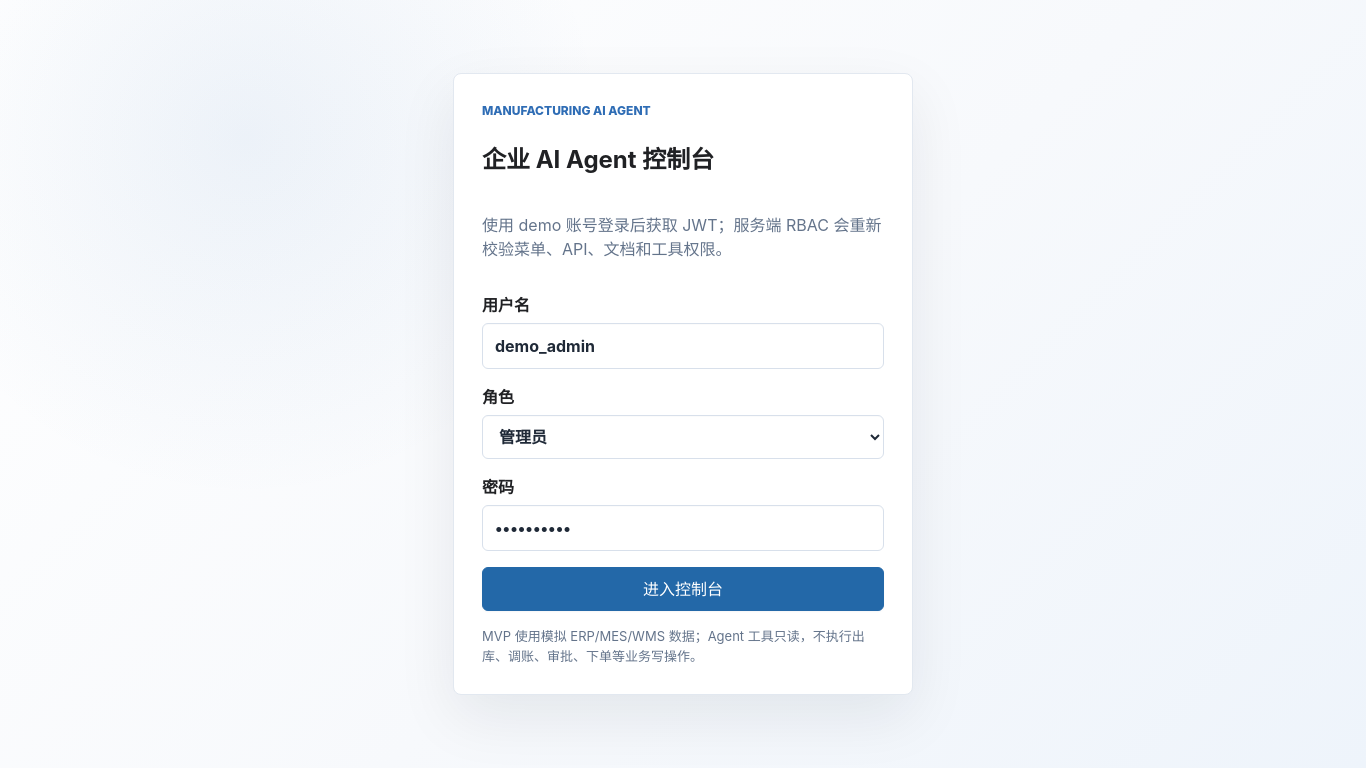
Test: P8 console smoke › renders SOP knowledge search result details
The width and height of the screenshot is (1366, 768).
Replace the text in the field labelled "用户名" with "demo_user" at point(683, 346), box [482,324,884,370]
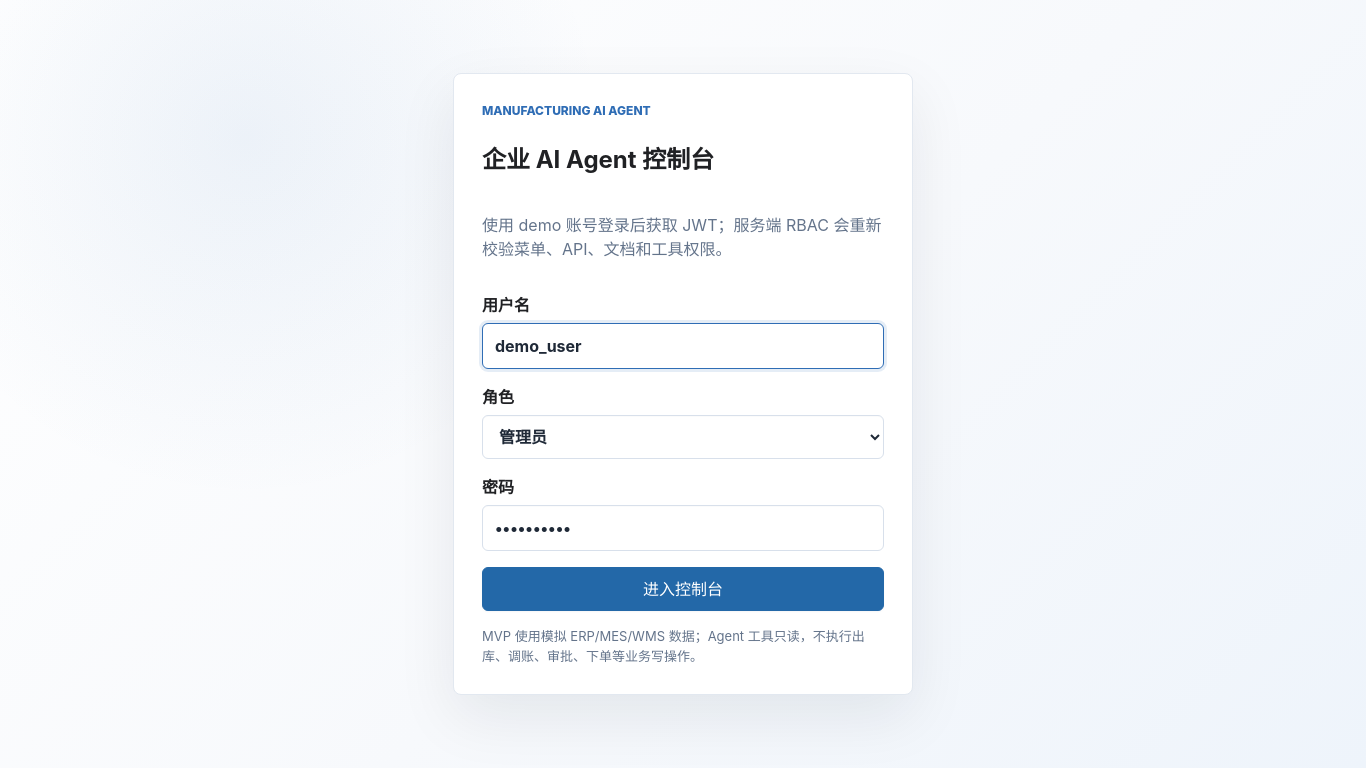
Select "普通用户" in the dropdown labelled "角色" at point(683, 438), box [482,416,884,460]
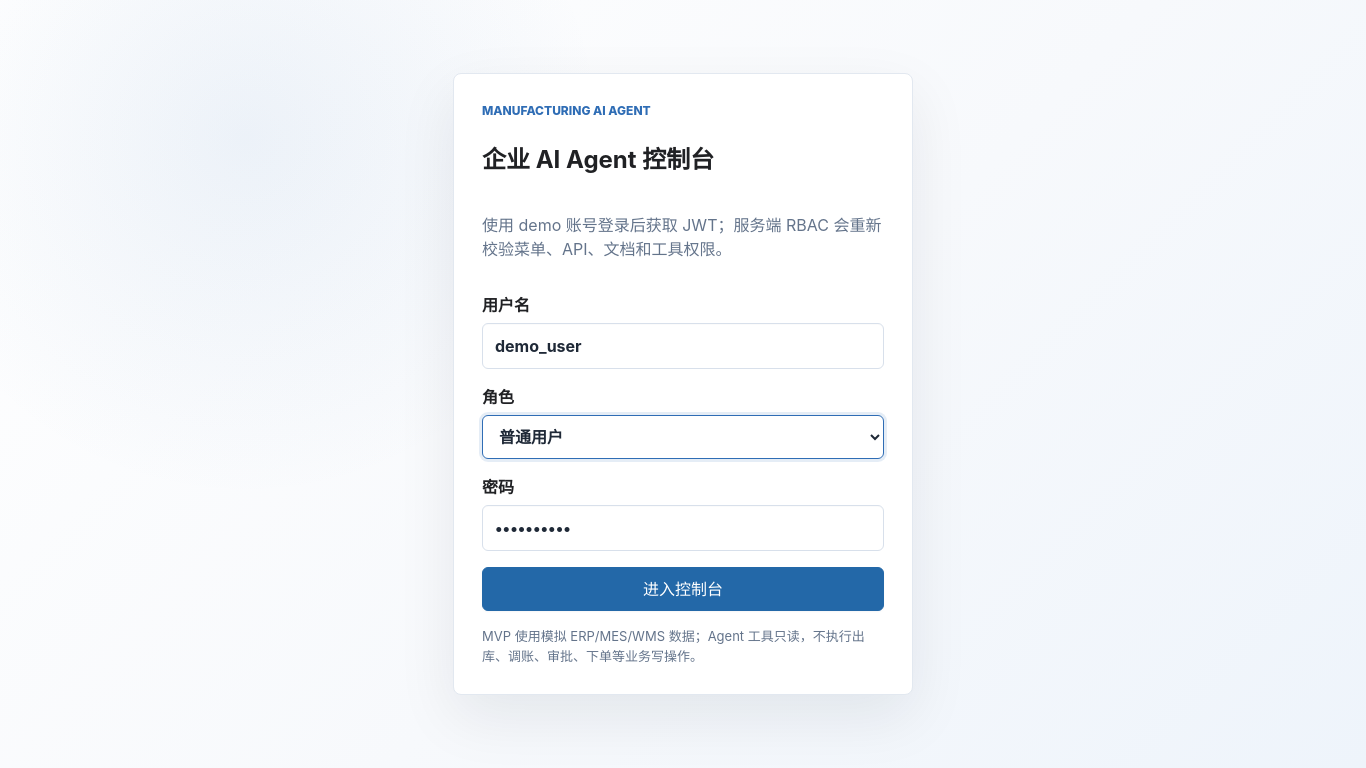
Click the button "进入控制台" at point(683, 590), box [482,568,884,612]
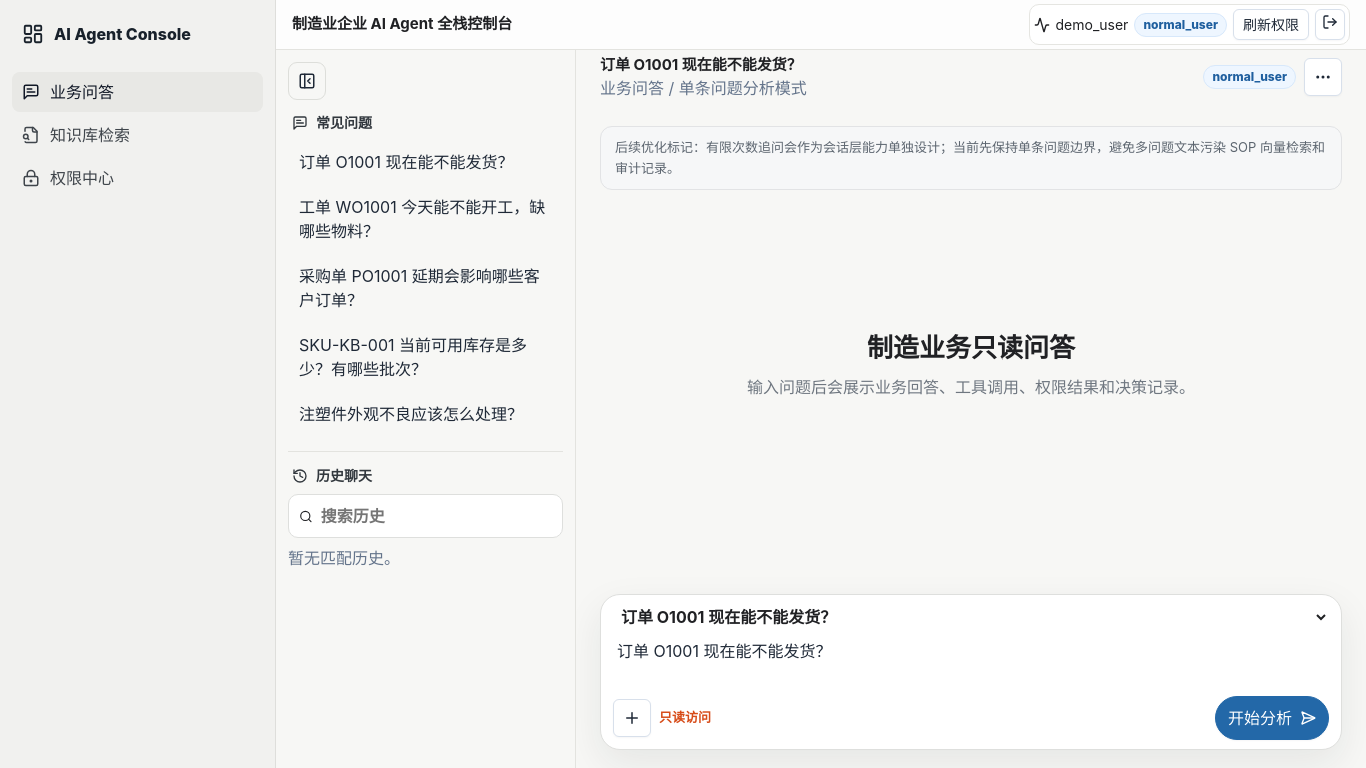
Click the button "知识库检索" at point(138, 135), box [12,115,263,155]
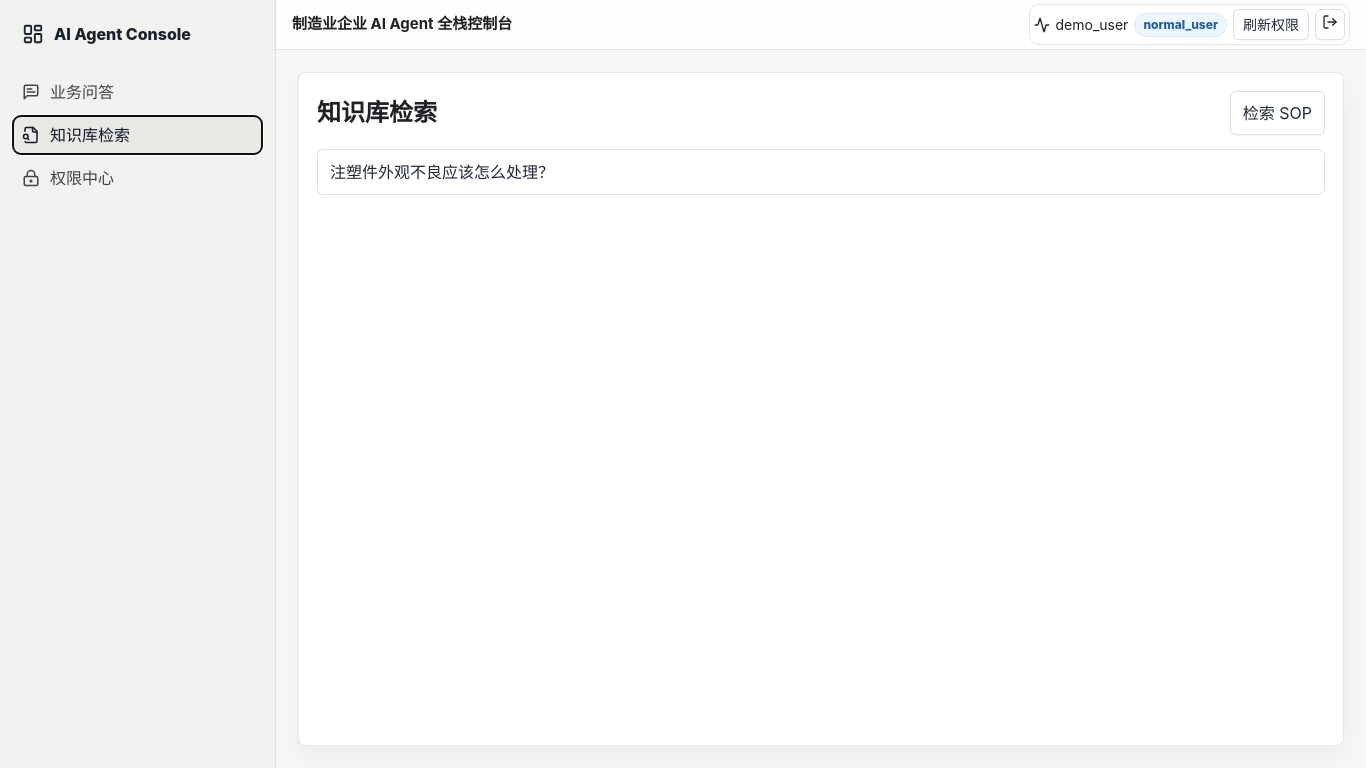
Click the button "检索 SOP" at point(1277, 113), box [1230,91,1325,135]
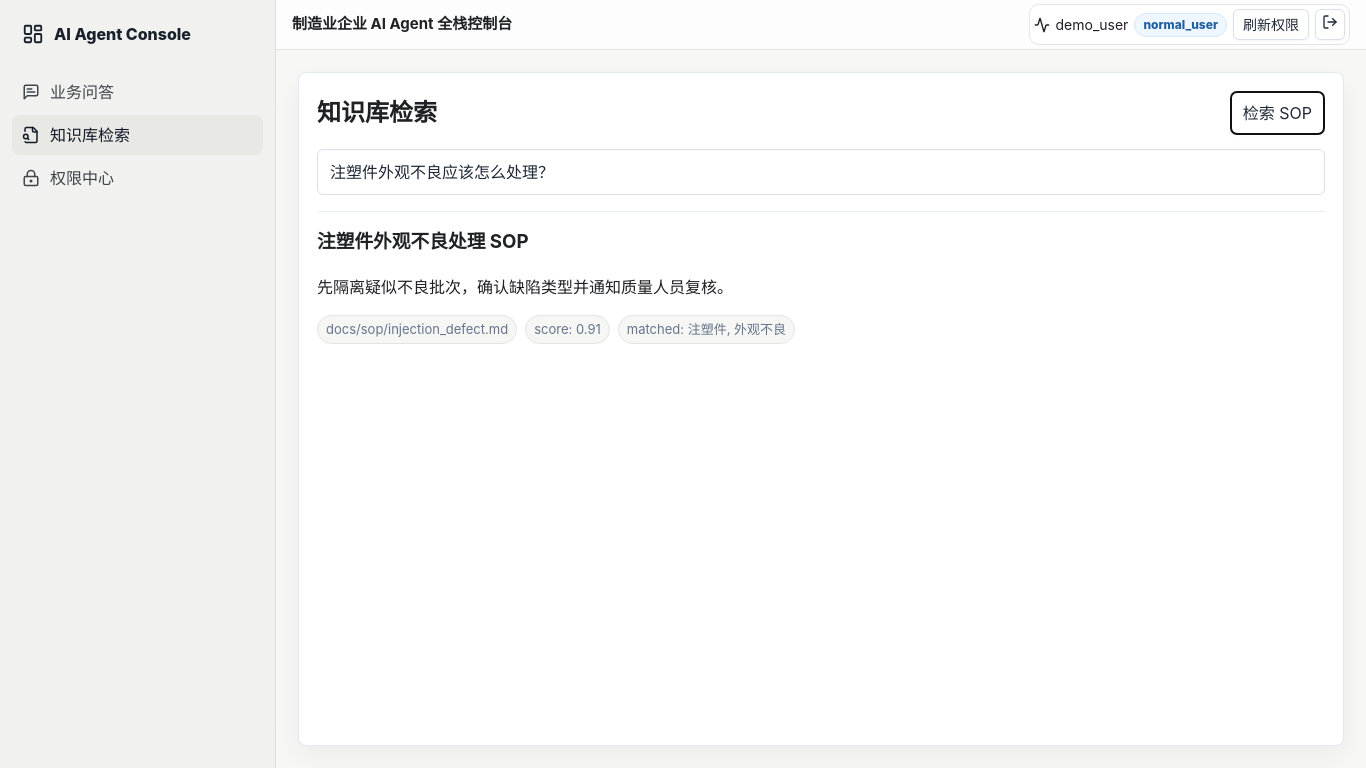
Result: the heading "注塑件外观不良处理 SOP" is shown at [317,230,528,253]
Result: the text "docs/sop/injection_defect.md" is shown at [317,315,517,344]
Result: the text "score: 0.91" is shown at [525,315,610,344]
